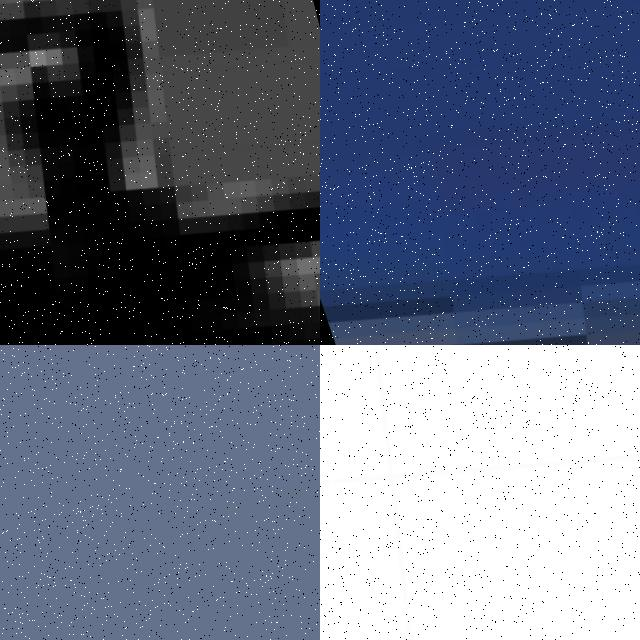0: (0, 0, 320, 345), (320, 0, 640, 345)
drone: (320, 345, 640, 640)
